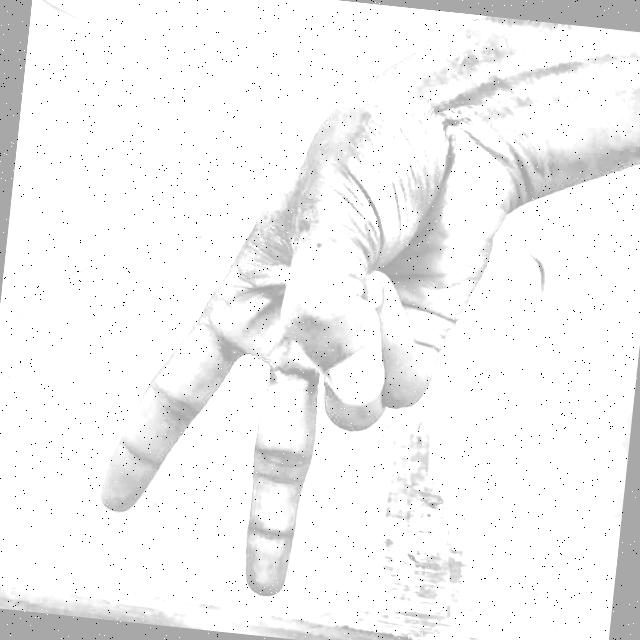Pa: (59, 37, 545, 640)
